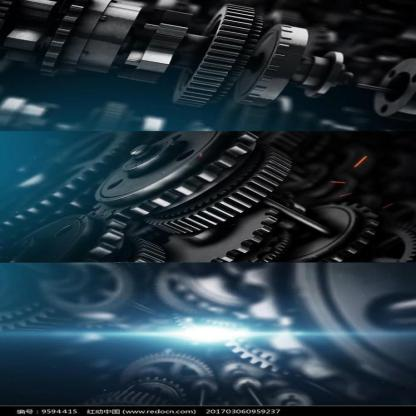FOD: (141, 140, 298, 240), (166, 3, 256, 113), (301, 196, 388, 264)
